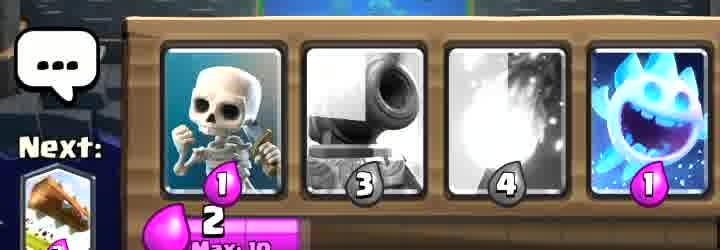ice-spirit: (595, 45, 711, 200)
log: (24, 168, 93, 250)
